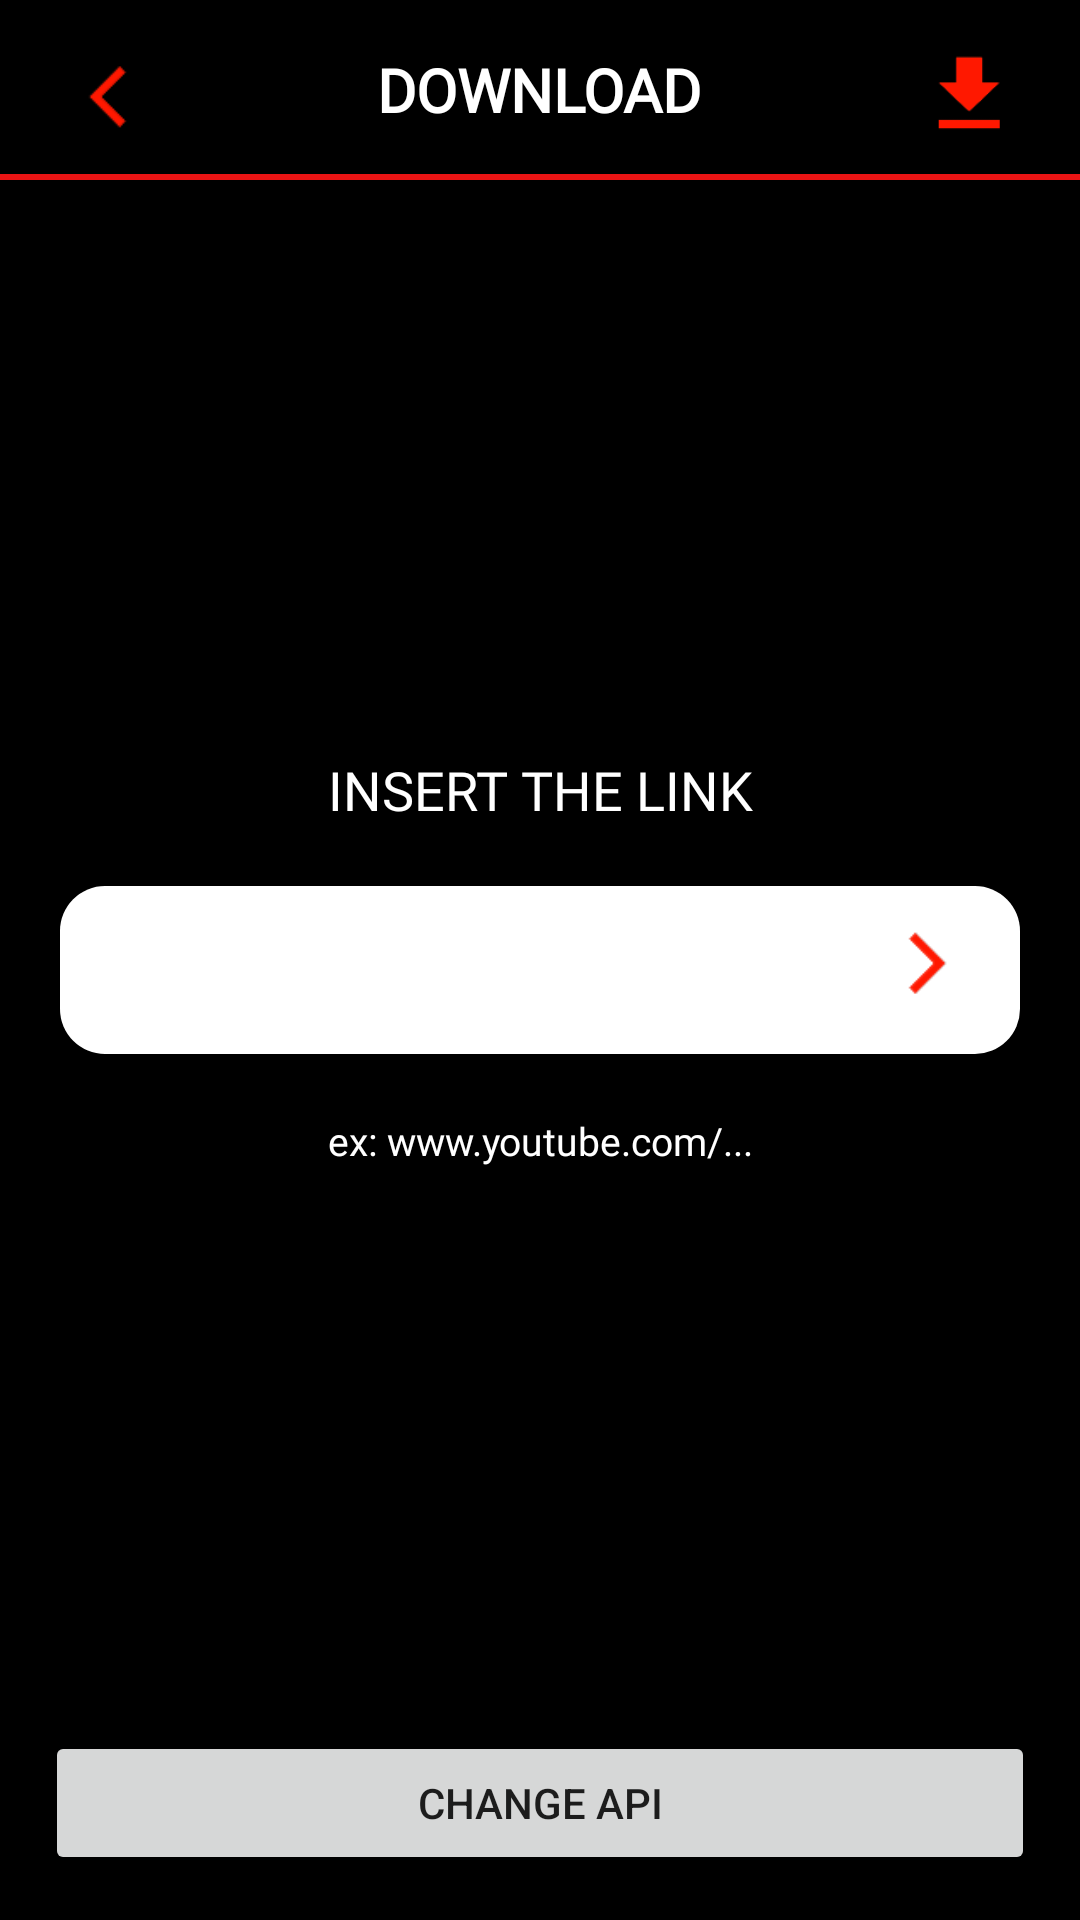

Icons on this 1080 x 1920 Android screen, each with its box as box(x1, y1, x2, y2):
download: box(938, 56, 1000, 129)
